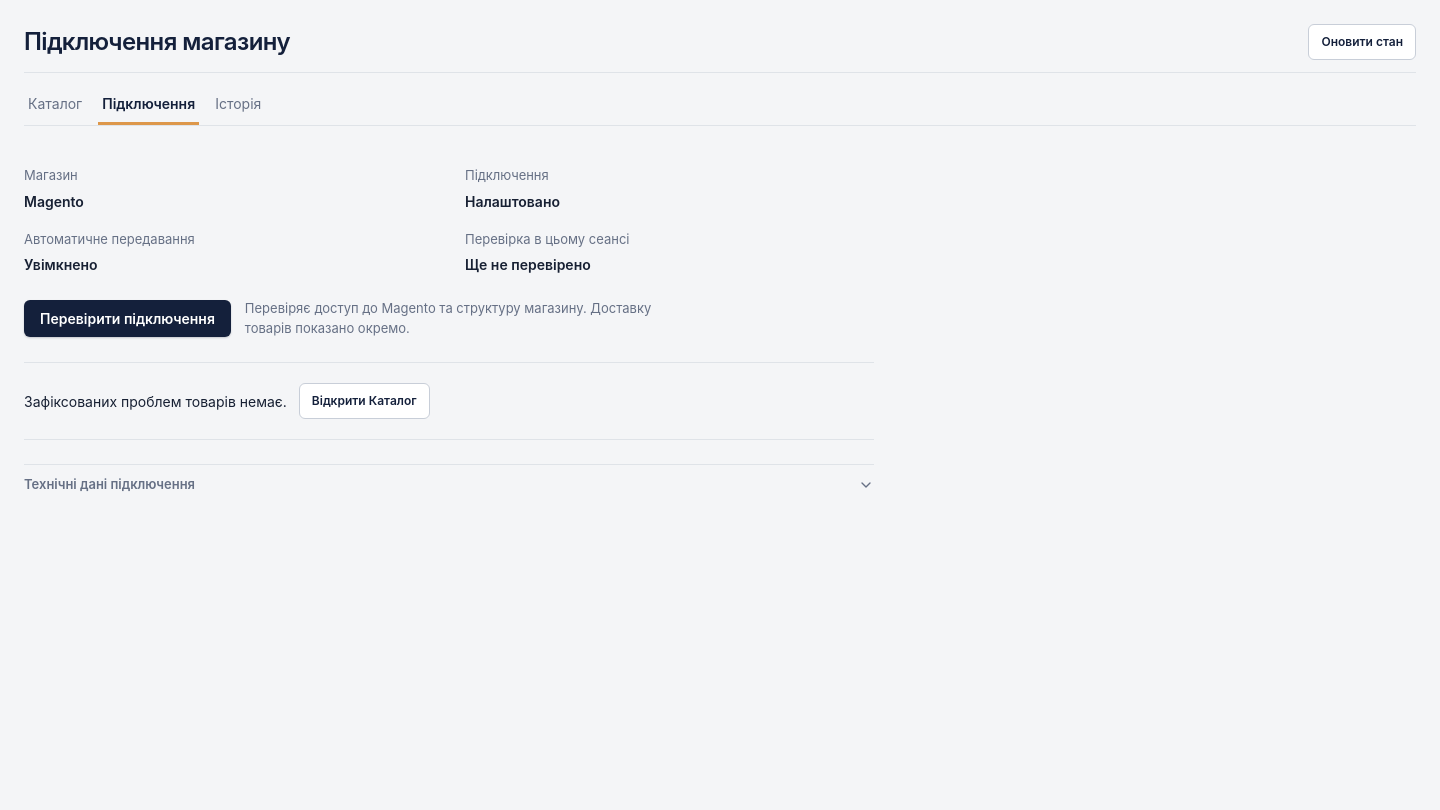
it: shows compact connection facts without category preparation noise or automatic Magento reads
Check: the text "Увімкнено" is shown, box x1=24 y1=256 x2=98 y2=273
Check: the text "Налаштовано" is shown, box x1=465 y1=192 x2=560 y2=210
Click the heading "Технічні дані підключення" at (109, 484), box x1=24 y1=476 x2=874 y2=493
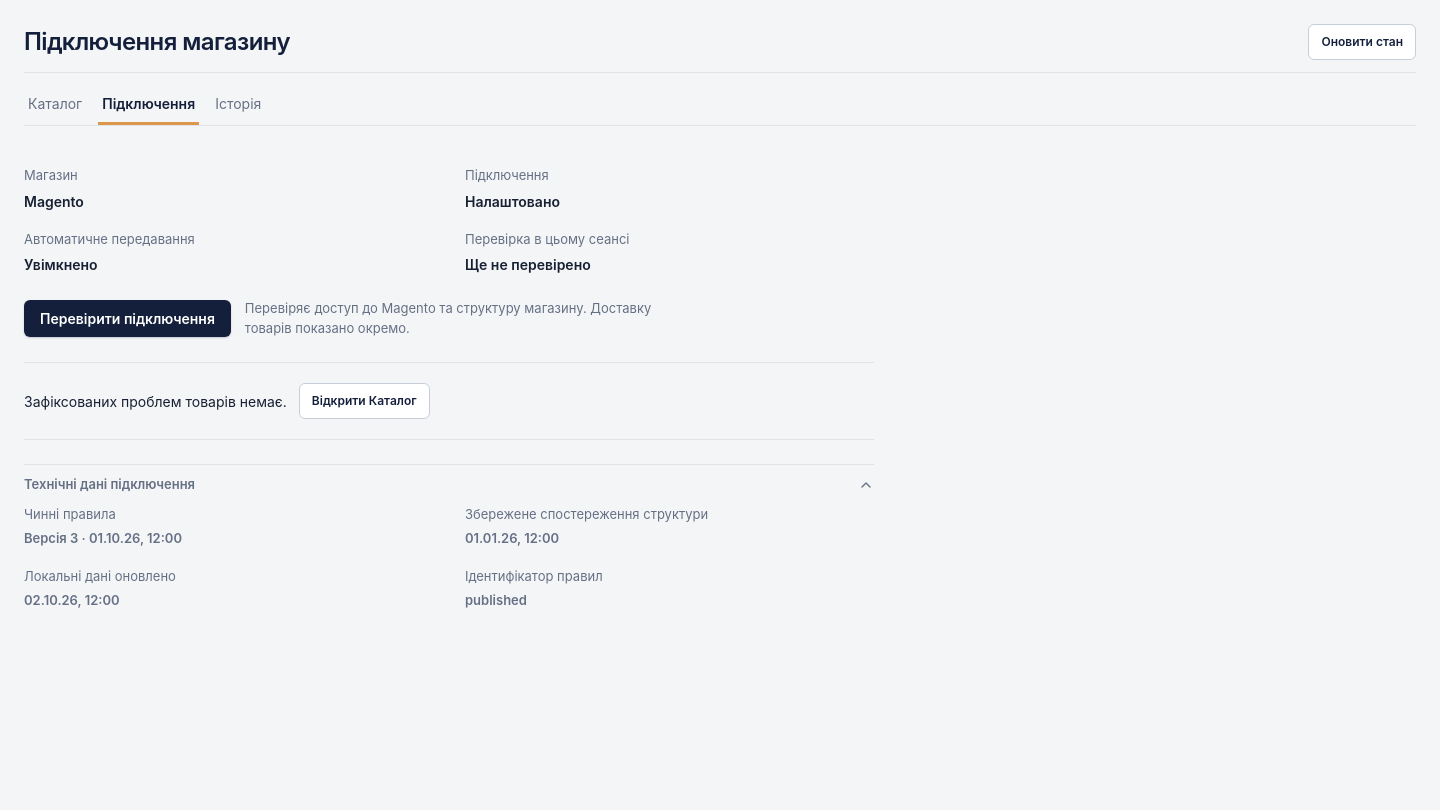
Check: the text "Версія 3 · 01.10.26, 12:00" is shown, box x1=24 y1=530 x2=182 y2=546
